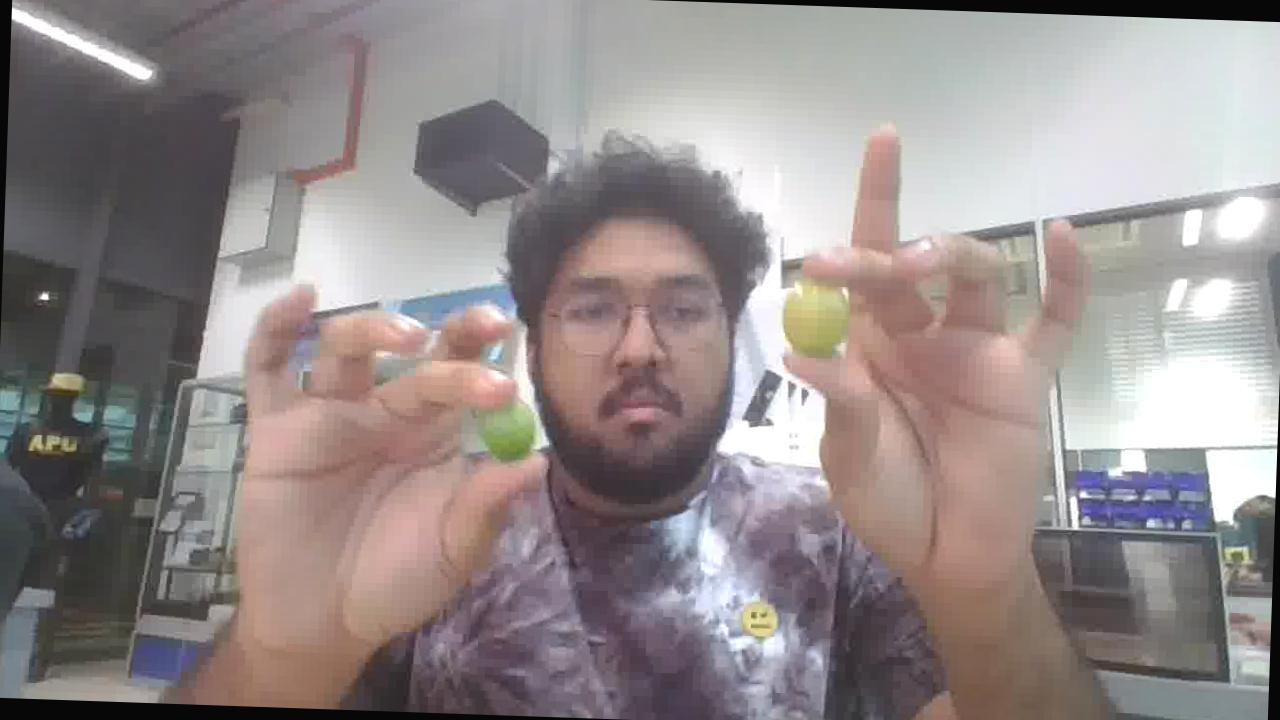green_cherry_tomato: (782, 280, 847, 357), (478, 399, 535, 460)
